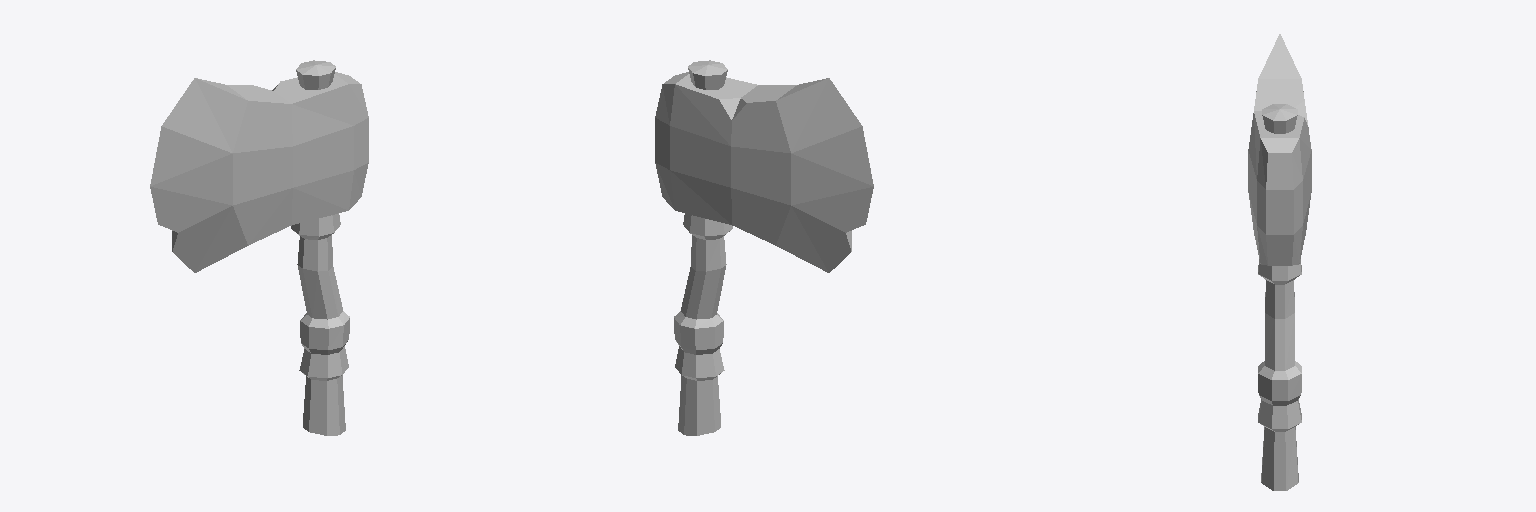
File: axe_1handed_Large.obj
The picture shows the model from 3 angles: view 1: azimuth 30°, elevation 25°; view 2: azimuth 150°, elevation 25°; view 3: azimuth 270°, elevation 25°; orthographic projection.
Visible parts, largest first — view 1: axe_1handed_Large; view 2: axe_1handed_Large; view 3: axe_1handed_Large.
Boxes of the visible parts, x1=… form: axe_1handed_Large: x1=150, y1=60, x2=368, y2=435; axe_1handed_Large: x1=655, y1=60, x2=873, y2=435; axe_1handed_Large: x1=1248, y1=34, x2=1311, y2=490.
Bounding box in the file's own units: 1.43 × 2.49 × 0.3699.